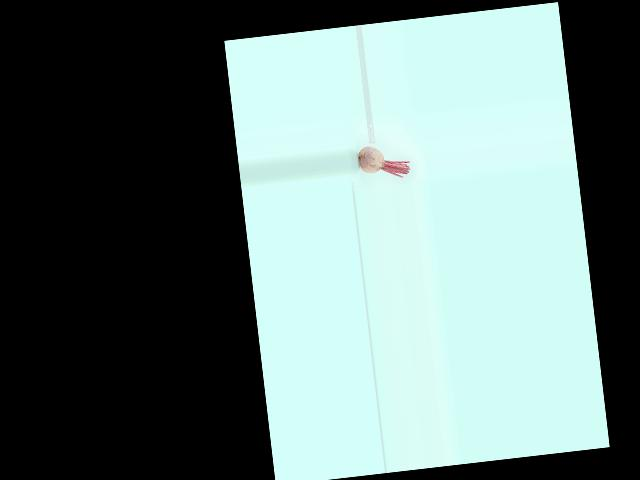beet: (356, 141, 410, 182)
